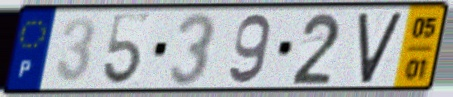2: (290, 9, 344, 87)
3: (167, 8, 221, 90), (54, 14, 101, 85)
5: (100, 11, 159, 88)
9: (227, 11, 273, 86)
V: (356, 9, 406, 86)
